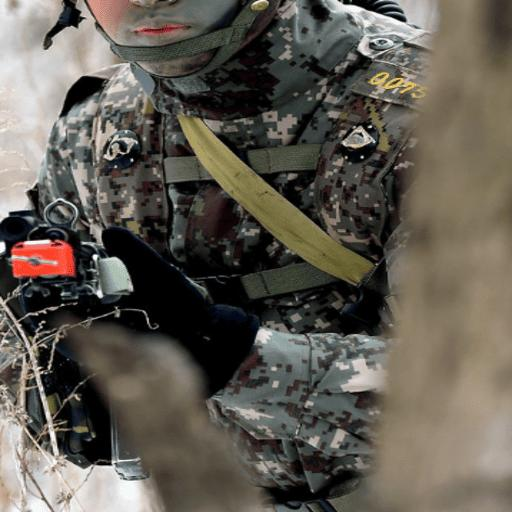korea army: (35, 20, 421, 494)
